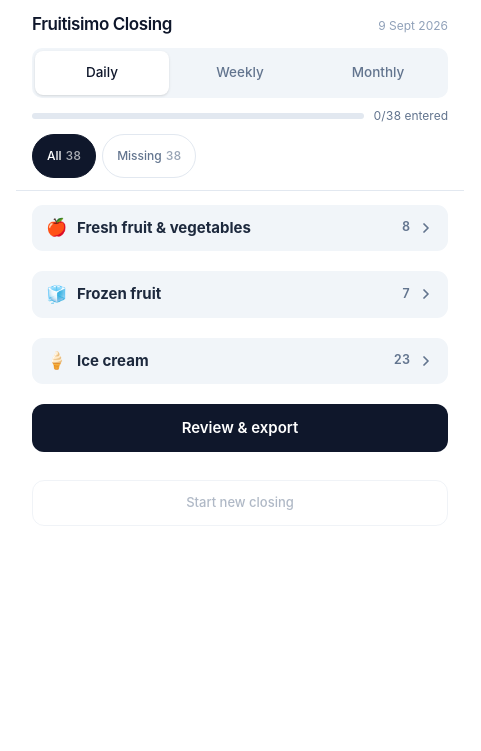
Test: switching closing type › brings out the monthly-only groups only in the monthly closing
Expected: the button "Display case" is not shown
Click the tab "Monthly": point(378, 72) [311,50,445,94]
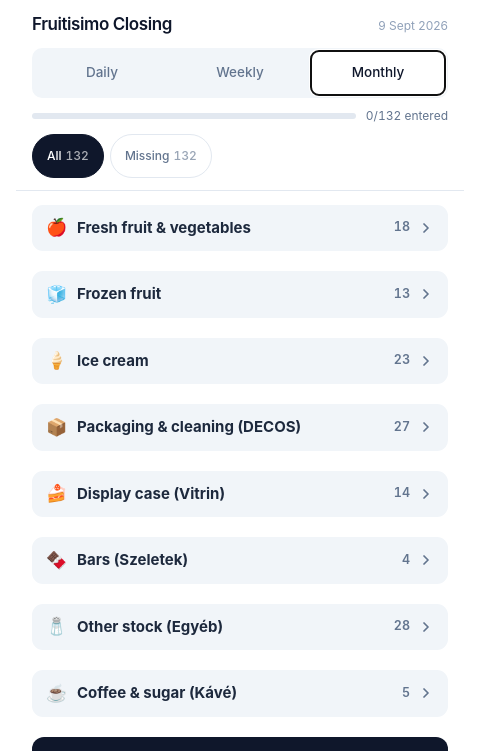
Now the button "🍰 Display case (Vitrin) 14" is shown, box [32,470,448,517]
Now the button "☕ Coffee & sugar (Kávé) 5" is shown, box [32,670,448,716]
